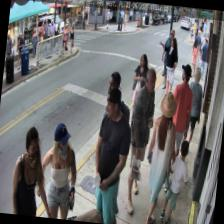person: (87, 87, 135, 224), (93, 71, 134, 215), (140, 91, 182, 224), (122, 66, 158, 214), (8, 124, 62, 218), (33, 122, 82, 220), (162, 63, 196, 174), (159, 136, 192, 224), (180, 66, 205, 157), (154, 36, 180, 97), (130, 52, 150, 120), (159, 28, 177, 89)
